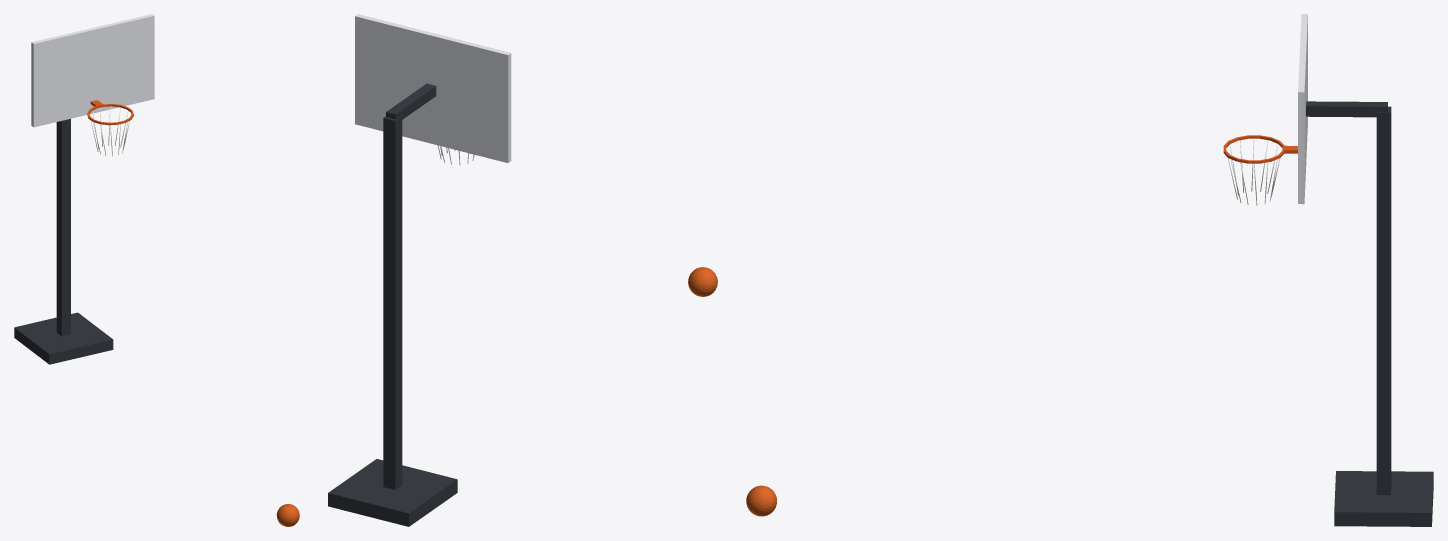
File: hum_16_basketball_props.glb
3 renders of one model, left to right at view 1: azimuth 30°, elevation 25°; view 2: azimuth 150°, elevation 25°; view 3: azimuth 270°, elevation 25°, orthographic. The views are drawn at different scales.
Parts seen in each view (by area): view 1: hoop_board, hoop_pole, hoop_base, o00; view 2: hoop_board, hoop_pole, hoop_base, hoop_arm, o00; view 3: hoop_pole, hoop_base, hoop_board, hoop_arm, o00.
Part boxes in pixels (x1,y1,x2,y2): hoop_board: [31, 14, 154, 127]; hoop_pole: [56, 119, 70, 336]; hoop_base: [14, 312, 113, 364]; o00: [276, 504, 299, 526]; hoop_board: [355, 14, 511, 162]; hoop_pole: [383, 115, 402, 489]; hoop_base: [328, 459, 457, 526]; hoop_arm: [386, 83, 436, 119]; o00: [688, 267, 717, 296]; hoop_pole: [1376, 106, 1391, 494]; hoop_base: [1334, 471, 1433, 526]; hoop_board: [1298, 14, 1307, 204]; hoop_arm: [1306, 101, 1387, 117]; o00: [746, 485, 776, 516].
Bounding box in the file's own units: 1.44 × 4 × 5.35.
